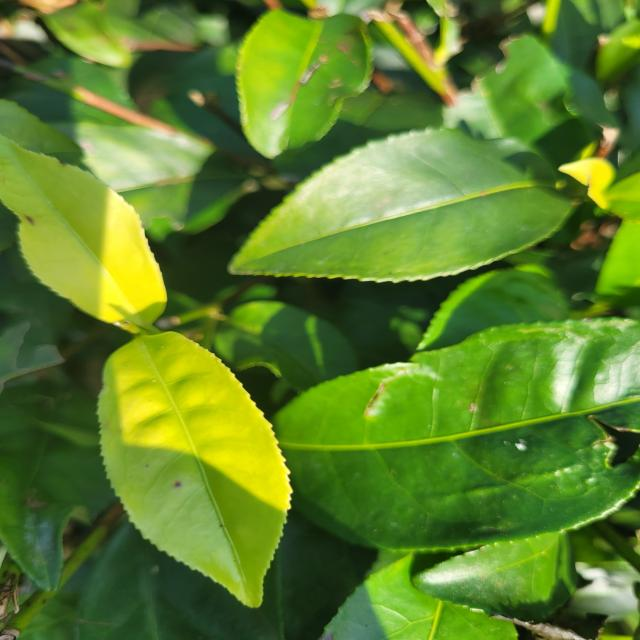Catagory A(1-2 days): (85, 317, 291, 611)
